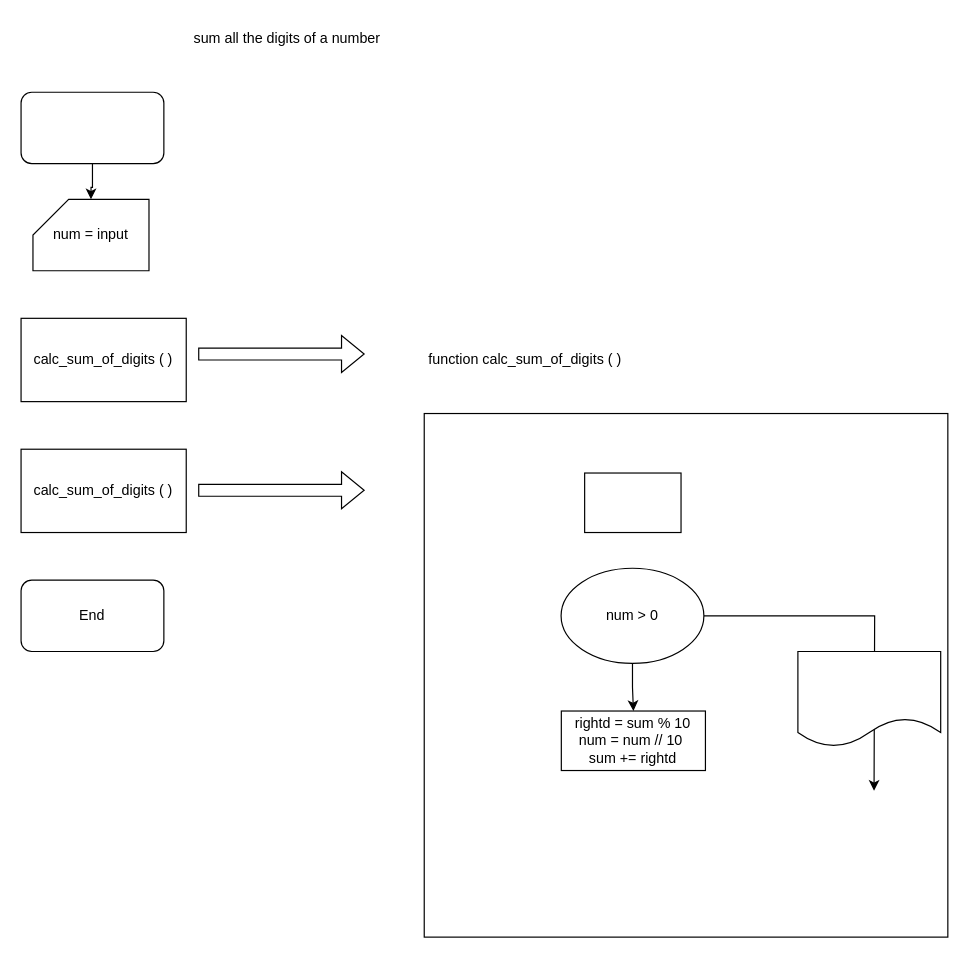
This 969x958 diagram has some shape labels left out. Each missing label, with the centre of its shape:
"Start" belongs at point (92, 127).
"sum" belongs at point (869, 698).
"sum = 0" belongs at point (632, 502).
